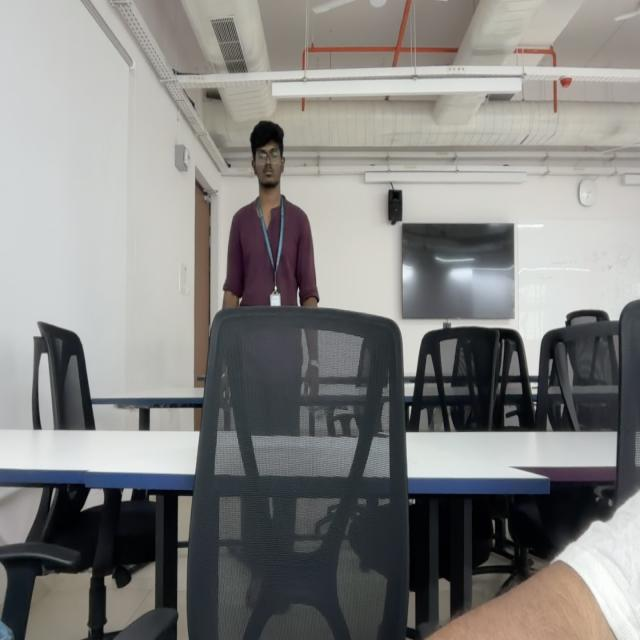ravindra: (250, 121, 286, 191)
